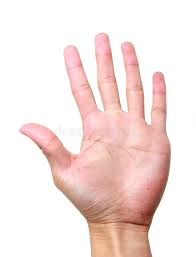palm: (18, 29, 179, 232)
